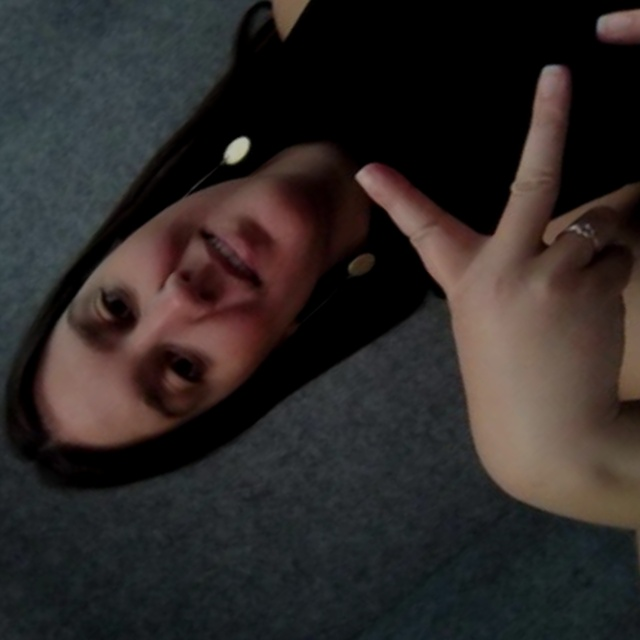Scissors: (244, 0, 640, 531)
